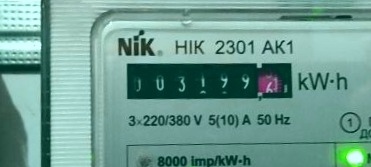0: (129, 71, 142, 93), (152, 70, 165, 91)
1: (196, 68, 207, 88)
3: (175, 72, 186, 92)
6: (264, 77, 275, 94)
9: (217, 69, 229, 89), (238, 70, 250, 89)
screen: (118, 50, 302, 112)
